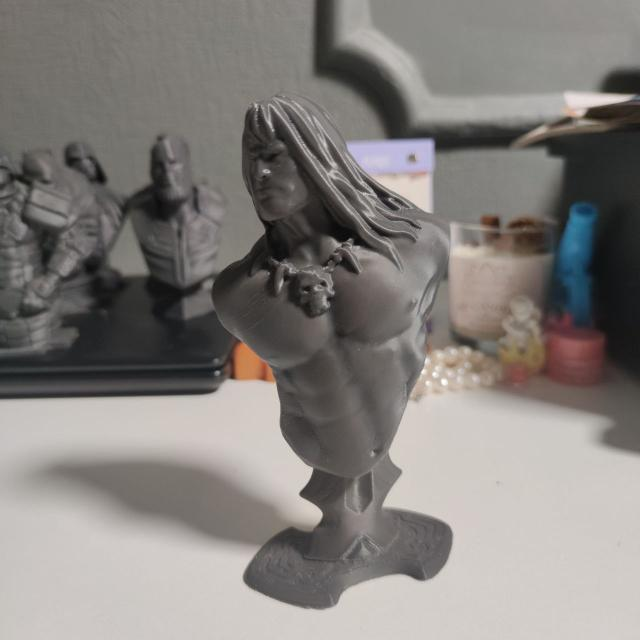Without deffect: (206, 74, 494, 627)
